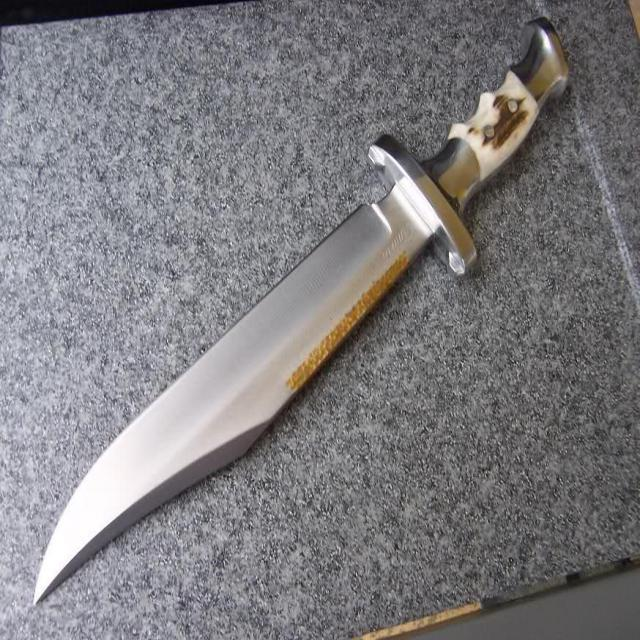short sword: (29, 31, 592, 623)
